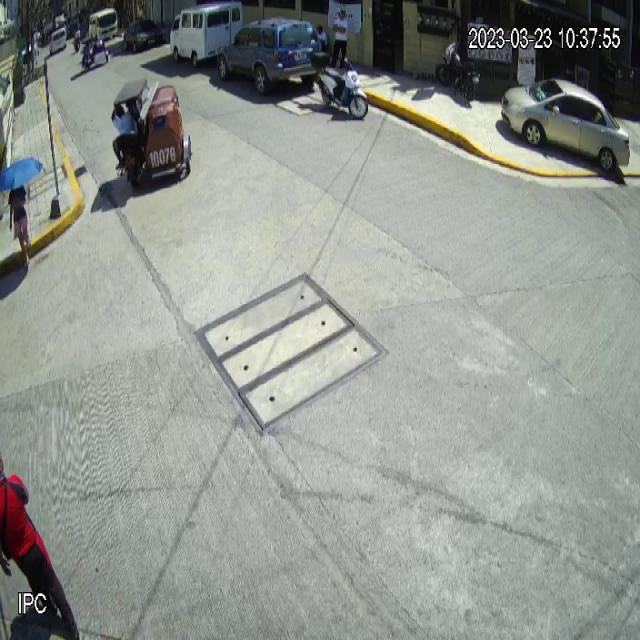Car: (501, 79, 631, 172), (217, 16, 323, 96)
Motorcycle: (309, 49, 369, 120)
Tricycle: (114, 73, 192, 194)
Van: (169, 0, 243, 67)
